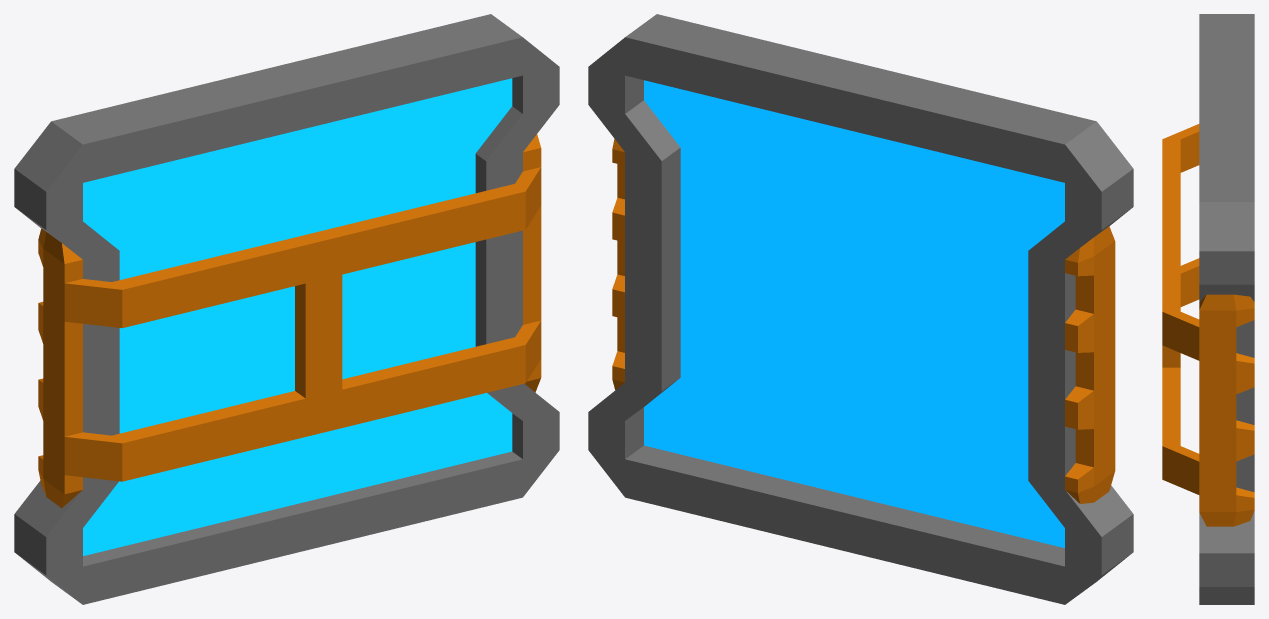
File: DisplayScreenMedium_0.glb
3 views of the same model, side by side, from view 1: azimuth 30°, elevation 25°; view 2: azimuth 150°, elevation 25°; view 3: azimuth 270°, elevation 25° (orthographic). The views are drawn at different scales.
Visible parts, largest first — view 1: Screen, Frame0, Frame1; view 2: Screen, Frame0, Frame1; view 3: Frame0, Frame1.
Part boxes in pixels (<box>): Screen: <box>83,78,512,555</box>; Frame0: <box>14,14,559,604</box>; Frame1: <box>38,134,541,508</box>; Screen: <box>644,80,1064,547</box>; Frame0: <box>588,14,1133,604</box>; Frame1: <box>612,139,1115,503</box>; Frame0: <box>1199,14,1254,604</box>; Frame1: <box>1162,124,1254,526</box>.
Size of what is drawn, in the model's own units: 2.8 by 2.4 by 0.5.
